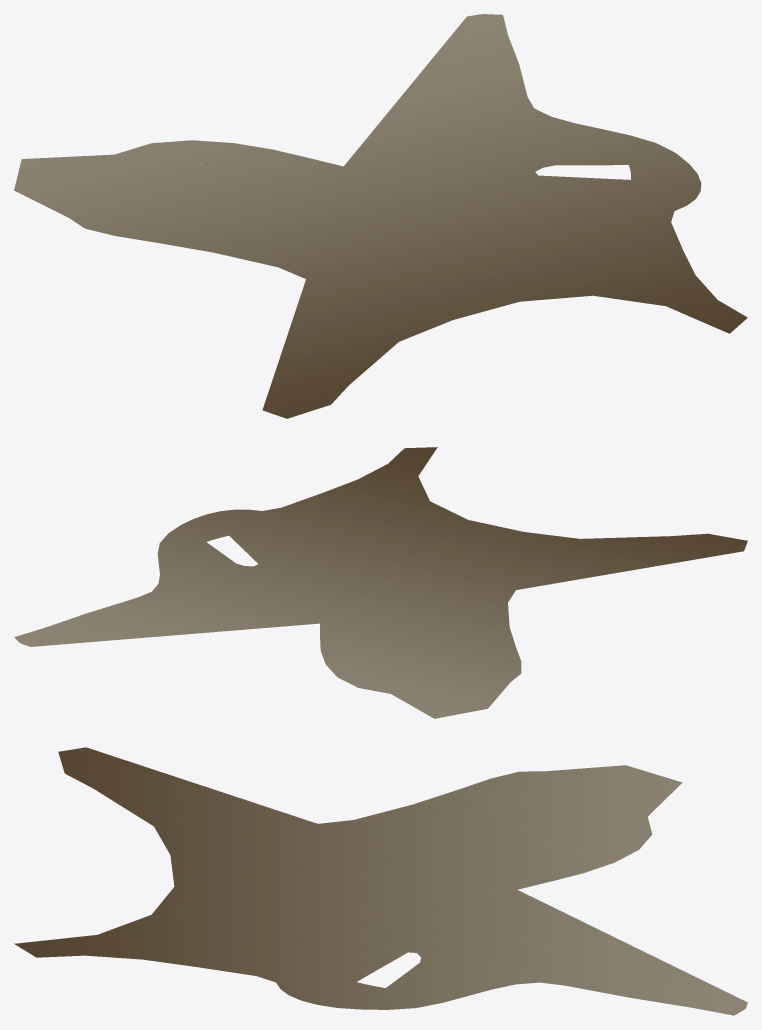
The model's file is walkableGround_mdl.FBX.
The picture shows the model from 3 angles, top to bottom: view 1: azimuth 30°, elevation 25°; view 2: azimuth 150°, elevation 25°; view 3: azimuth 270°, elevation 25°; orthographic projection. The views are drawn at different scales.
Parts seen in each view (by area): view 1: walkableGround_mdl; view 2: walkableGround_mdl; view 3: walkableGround_mdl.
Part boxes in pixels (box(x1,y1,x2,y2)): walkableGround_mdl: box(14, 14, 747, 418); walkableGround_mdl: box(14, 447, 747, 718); walkableGround_mdl: box(14, 747, 747, 1015).
Size of the model in its own units: 14014 by 3.74 by 16197.
Materials: 1 (1 with a texture image).
